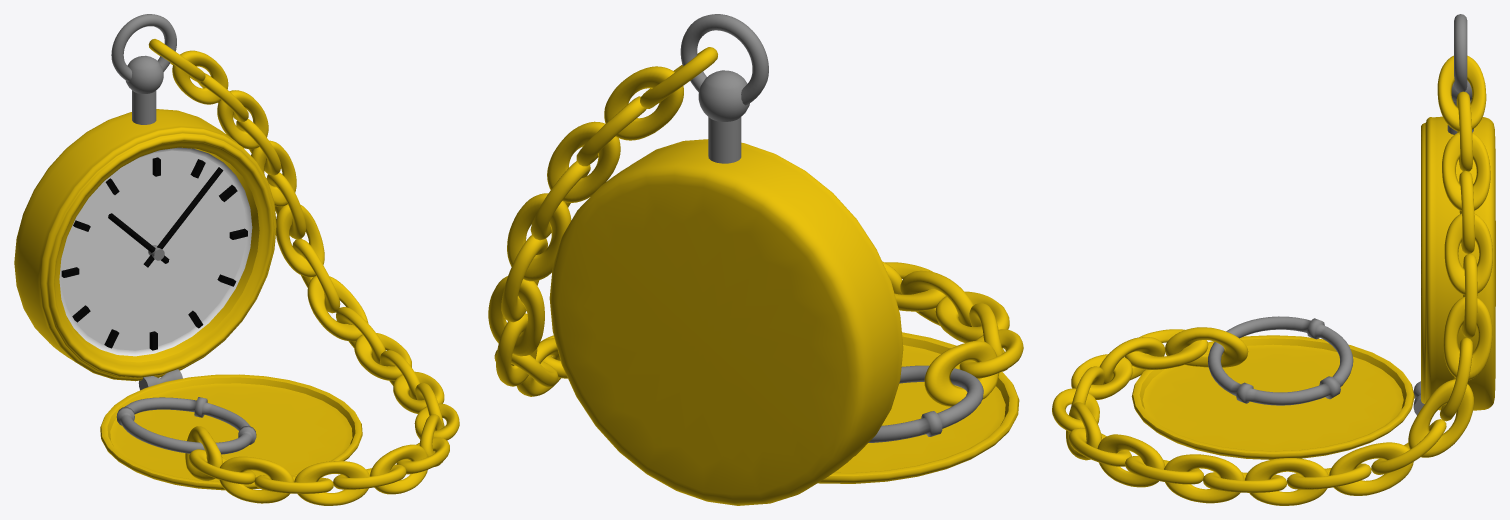
The picture shows the model from 3 angles, left to right: view 1: azimuth 30°, elevation 25°; view 2: azimuth 150°, elevation 25°; view 3: azimuth 270°, elevation 25°; orthographic projection. The views are drawn at different scales.
Parts seen in each view (by area): view 1: Base.001, Link, Cap.001, ChainEnd, Top.001, Number, Chain.001, Minutes.001; view 2: Base.001, Link, Cap.001, Top.001, ChainEnd, Chain.001; view 3: Link, Cap.001, Base.001, ChainEnd, Chain.001.
Part boxes in pixels (bbox=[...]): Base.001: bbox=[14, 109, 276, 381]; Link: bbox=[148, 39, 459, 505]; Cap.001: bbox=[100, 374, 362, 490]; ChainEnd: bbox=[116, 397, 256, 454]; Top.001: bbox=[125, 55, 163, 124]; Number: bbox=[61, 157, 247, 350]; Chain.001: bbox=[111, 14, 176, 81]; Minutes.001: bbox=[143, 167, 223, 267]; Base.001: bbox=[549, 139, 903, 505]; Link: bbox=[488, 47, 1023, 406]; Cap.001: bbox=[818, 332, 1019, 483]; Top.001: bbox=[698, 70, 749, 163]; ChainEnd: bbox=[868, 365, 983, 442]; Chain.001: bbox=[680, 14, 768, 105]; Link: bbox=[1052, 55, 1492, 505]; Cap.001: bbox=[1131, 335, 1414, 459]; Base.001: bbox=[1421, 116, 1495, 410]; ChainEnd: bbox=[1208, 316, 1353, 405]; Chain.001: bbox=[1454, 14, 1467, 92].
Size of the model in its own units: 29.66 by 33.53 by 32.9.
